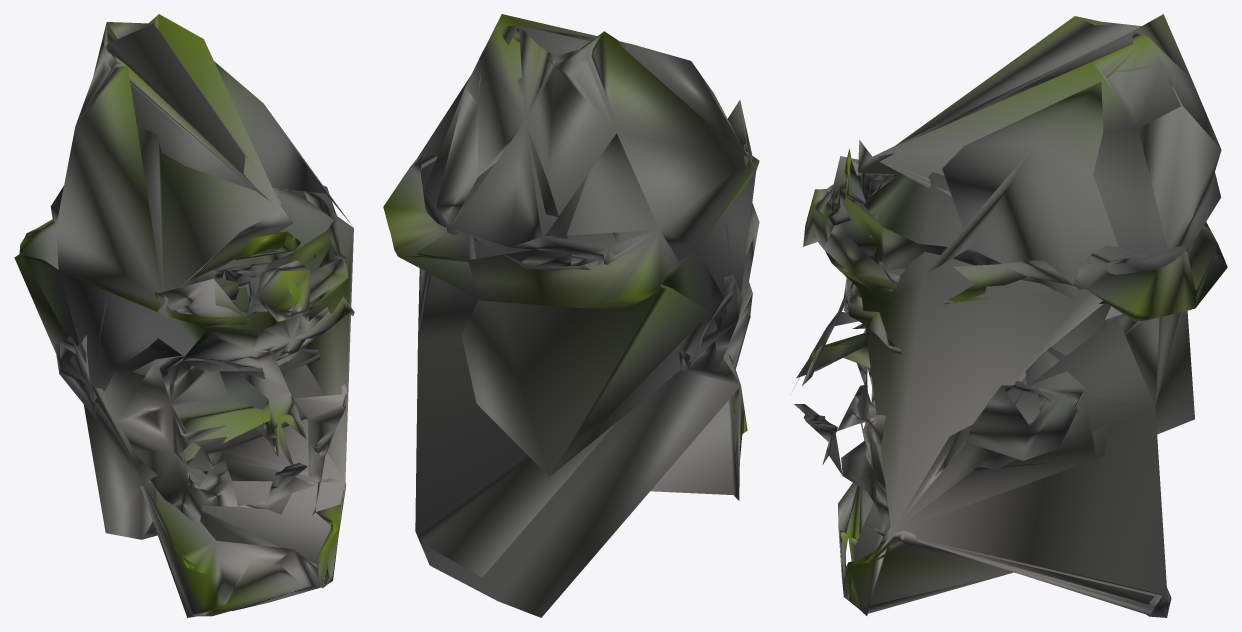
File: gen3d-carved-stone-head-lod1.glb
3 views of the same model, side by side, from view 1: azimuth 30°, elevation 25°; view 2: azimuth 150°, elevation 25°; view 3: azimuth 270°, elevation 25° (orthographic). The views are drawn at different scales.
Visible parts, largest first — view 1: part_0; view 2: part_0; view 3: part_0.
Boxes of the visible parts, box(x1,y1,x2,y2) form: part_0: box(14, 14, 354, 617); part_0: box(383, 14, 759, 617); part_0: box(792, 14, 1227, 617).
Size of the model in its own units: 0.5315 by 0.9987 by 0.6848.
